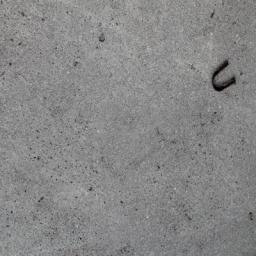FOD: (206, 59, 245, 94)
